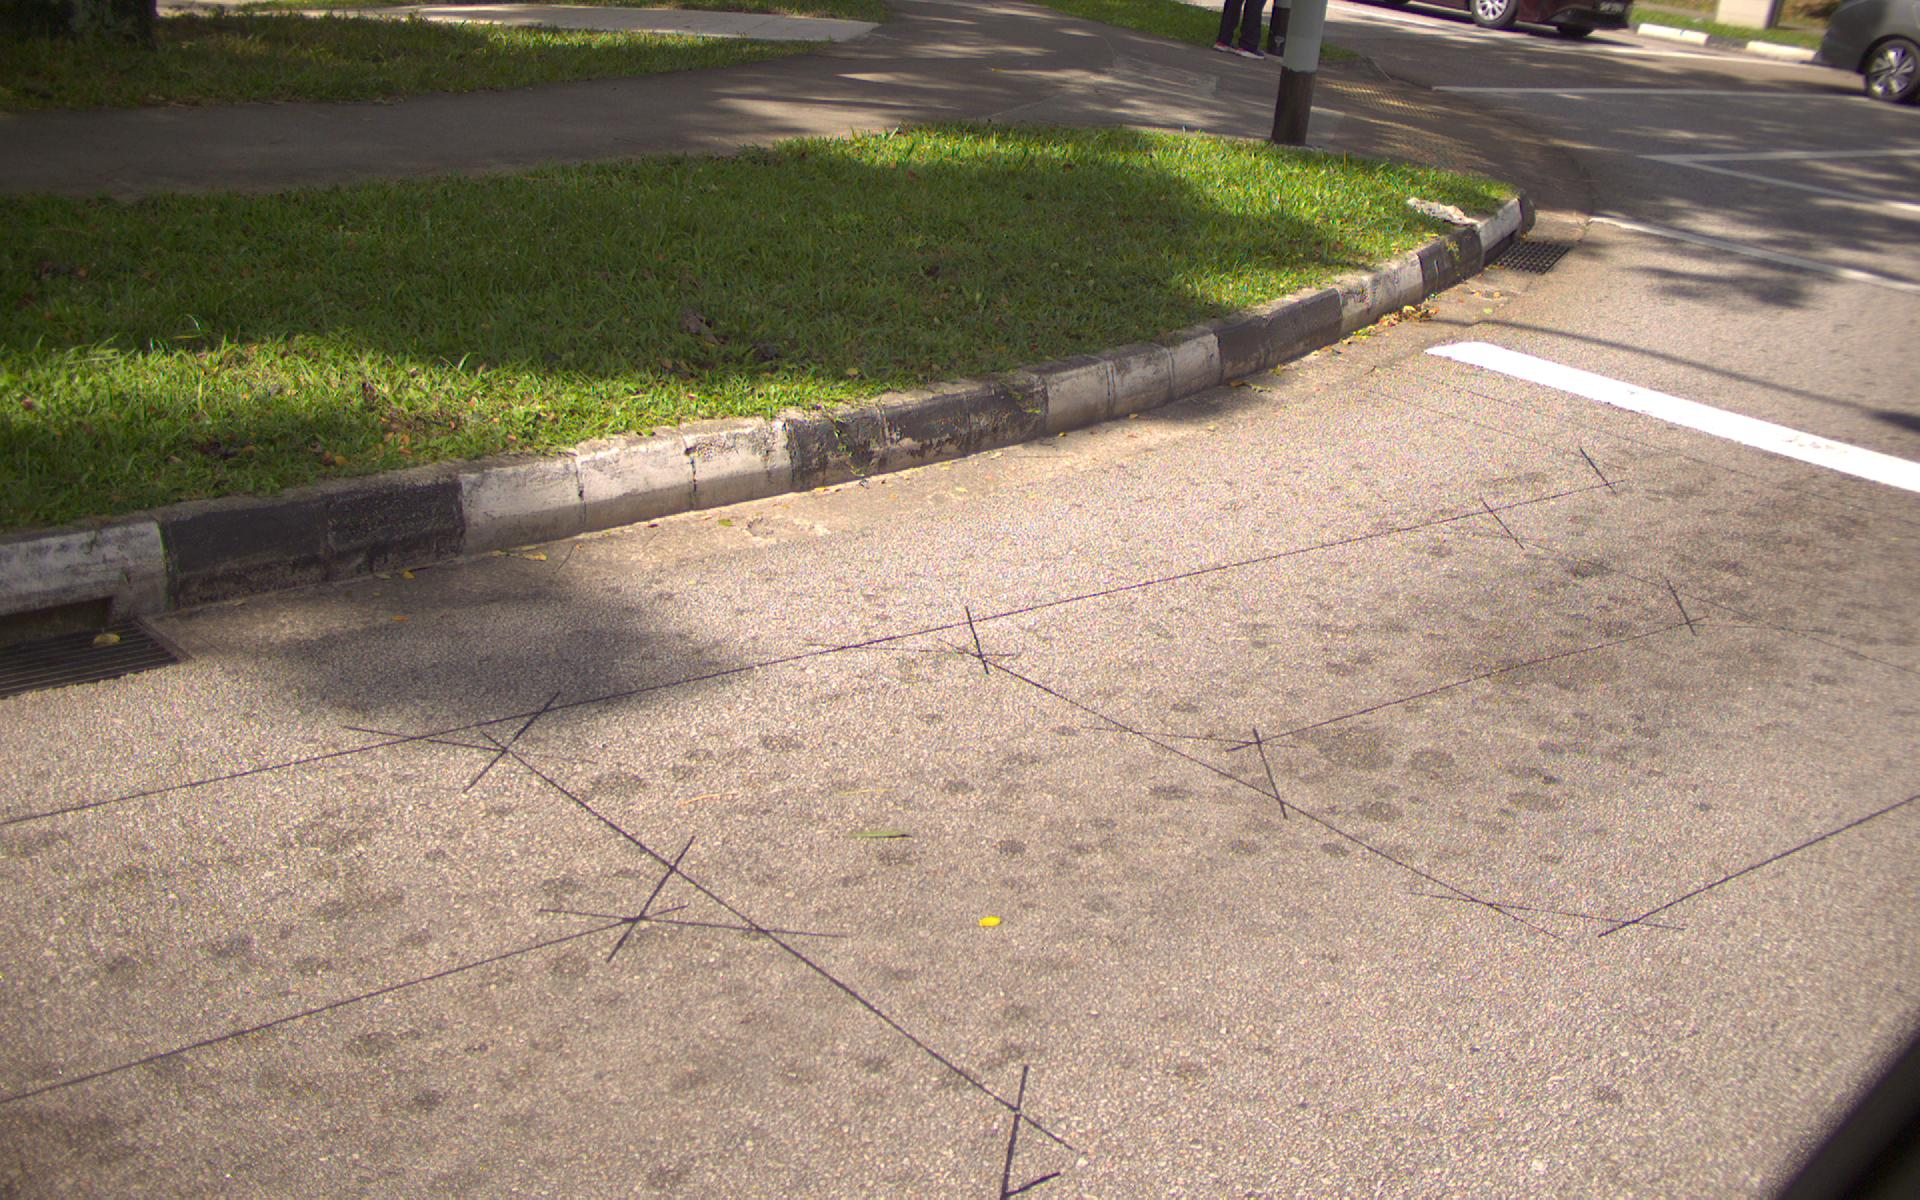curb_grill_low: (1, 615, 191, 700), (1494, 236, 1572, 279)
road_turf_low: (54, 127, 1511, 514)
